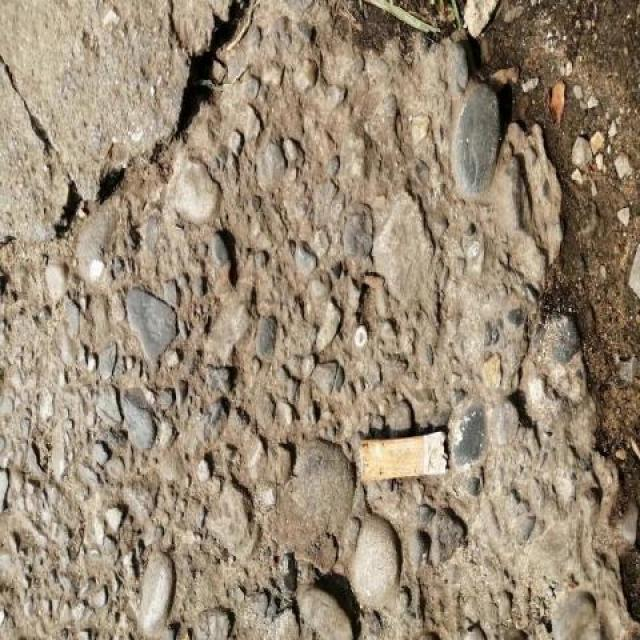non-organic waste: (352, 419, 452, 489)
